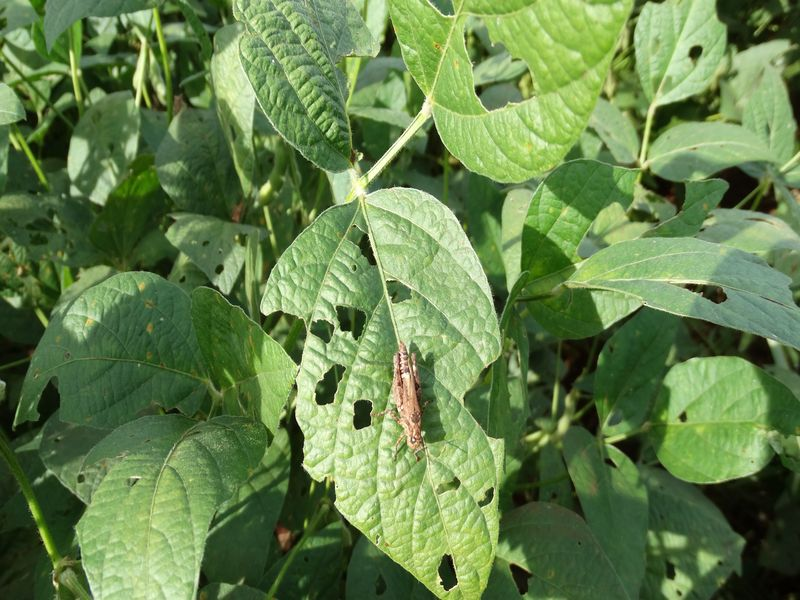Rhammatocerus_schistocercoides: (363, 334, 454, 465)
